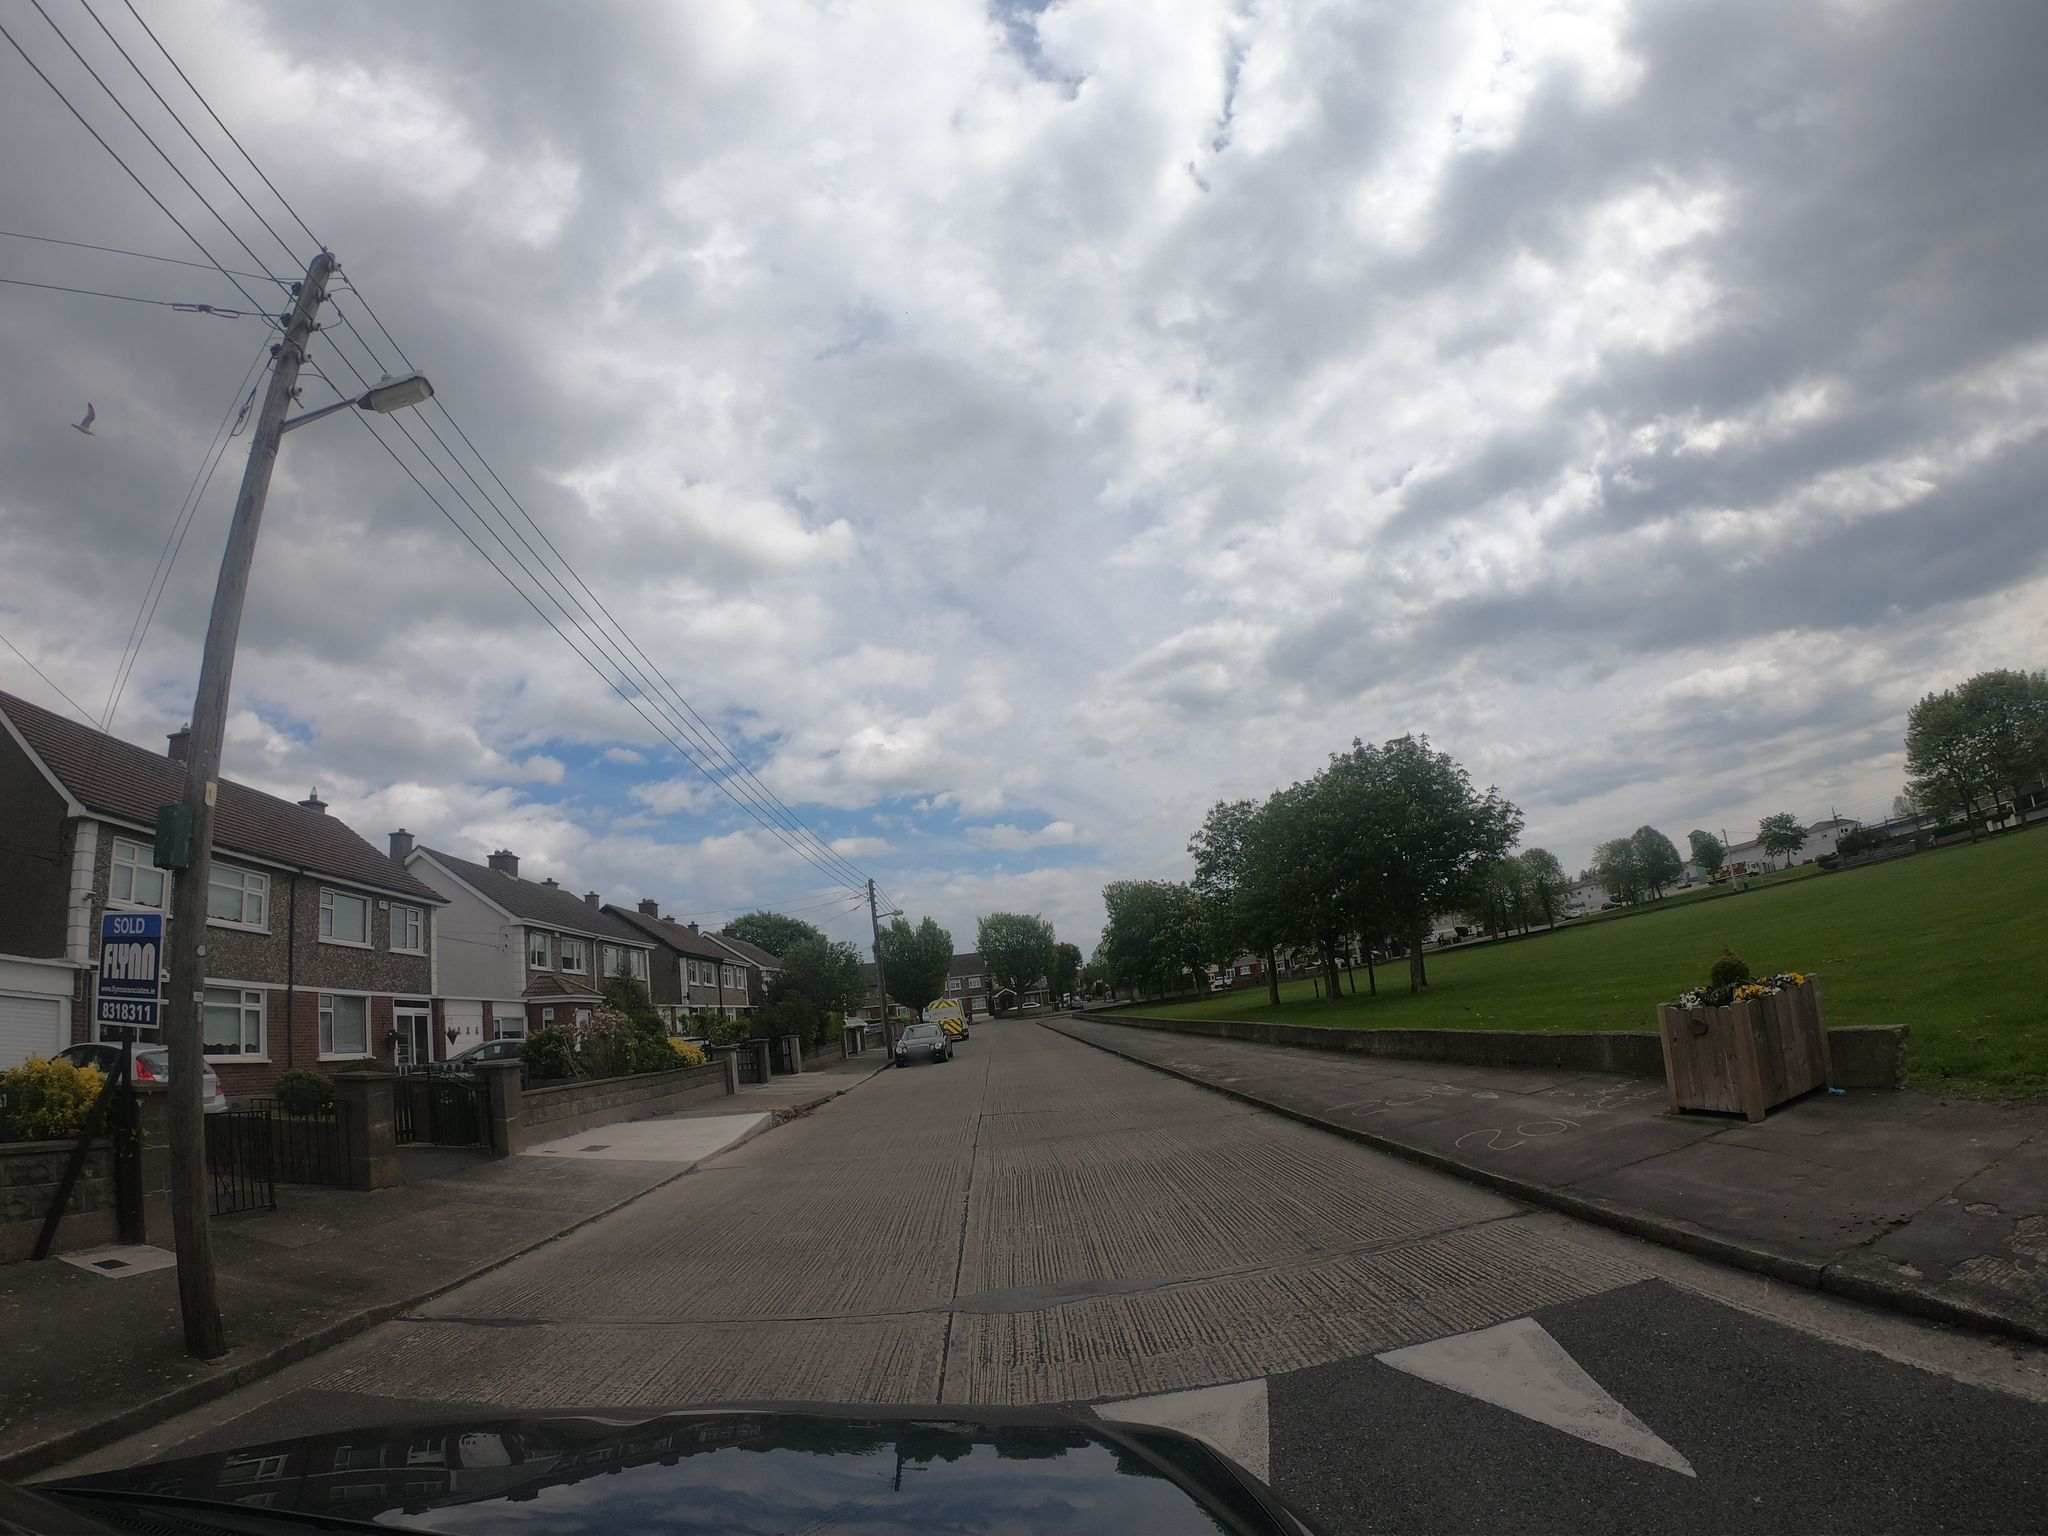property sign: (94, 891, 181, 1039)
